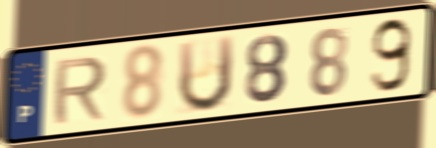8: (120, 42, 167, 123), (242, 32, 290, 106), (308, 25, 351, 99)
9: (369, 16, 414, 95)
R: (50, 54, 110, 127)
U: (175, 32, 237, 116)
